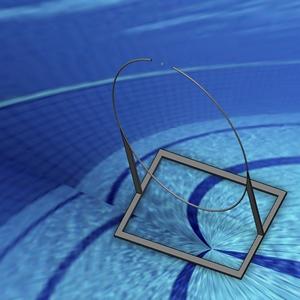circle: (110, 57, 290, 280)
